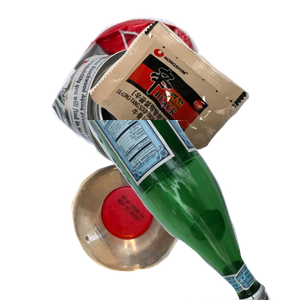glass: (75, 120, 300, 300)
metal: (48, 15, 251, 175)
plastic: (69, 161, 245, 300)
trash: (86, 18, 300, 194)
